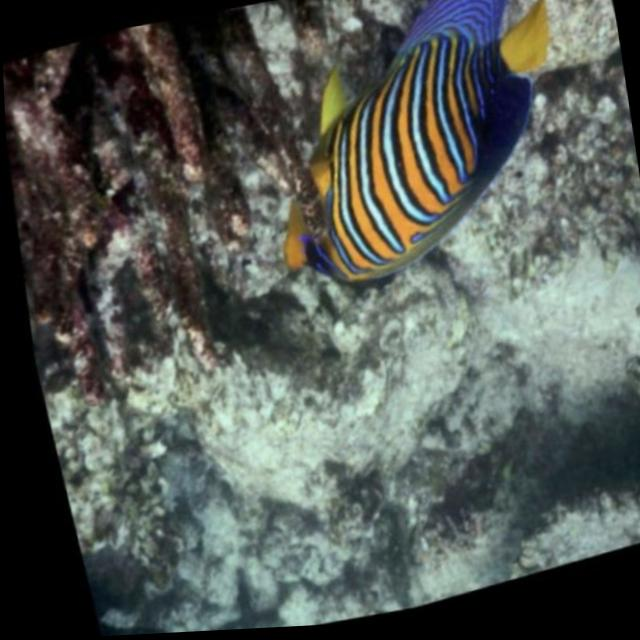Dead Coral: (1, 9, 326, 409)
